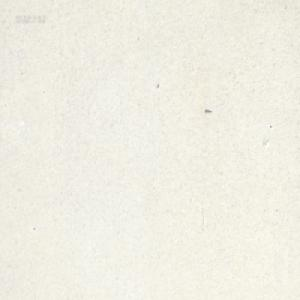Nail: (204, 108, 211, 113)
